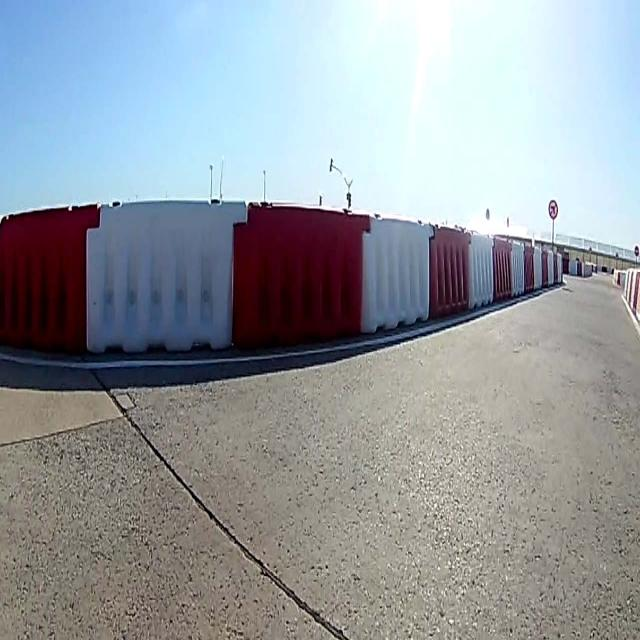soladonulmez: (548, 201, 558, 223)
